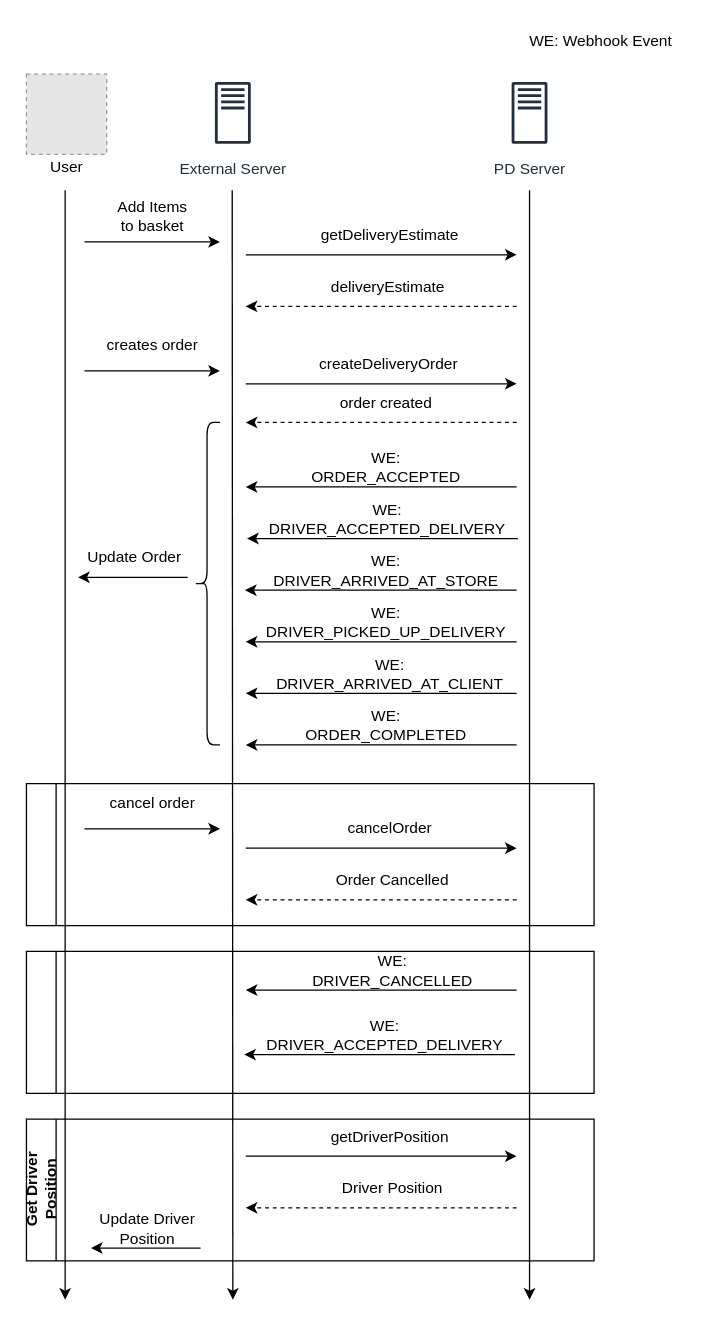
Some shapes in this 706 by 1333 pixel diagram are drawn without their labels. Grey dashed boxes stand in for pictures. Here are the shapes that lost their labels. From the top down, the box of each, then its label:
(25, 782, 594, 926): Cancel user Order
(25, 950, 594, 1093): Driver Reassigned
